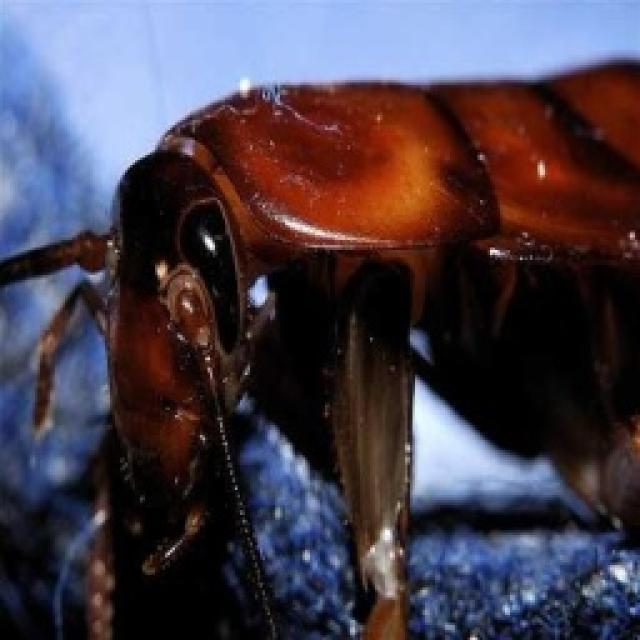cockroach: (2, 59, 638, 637)
